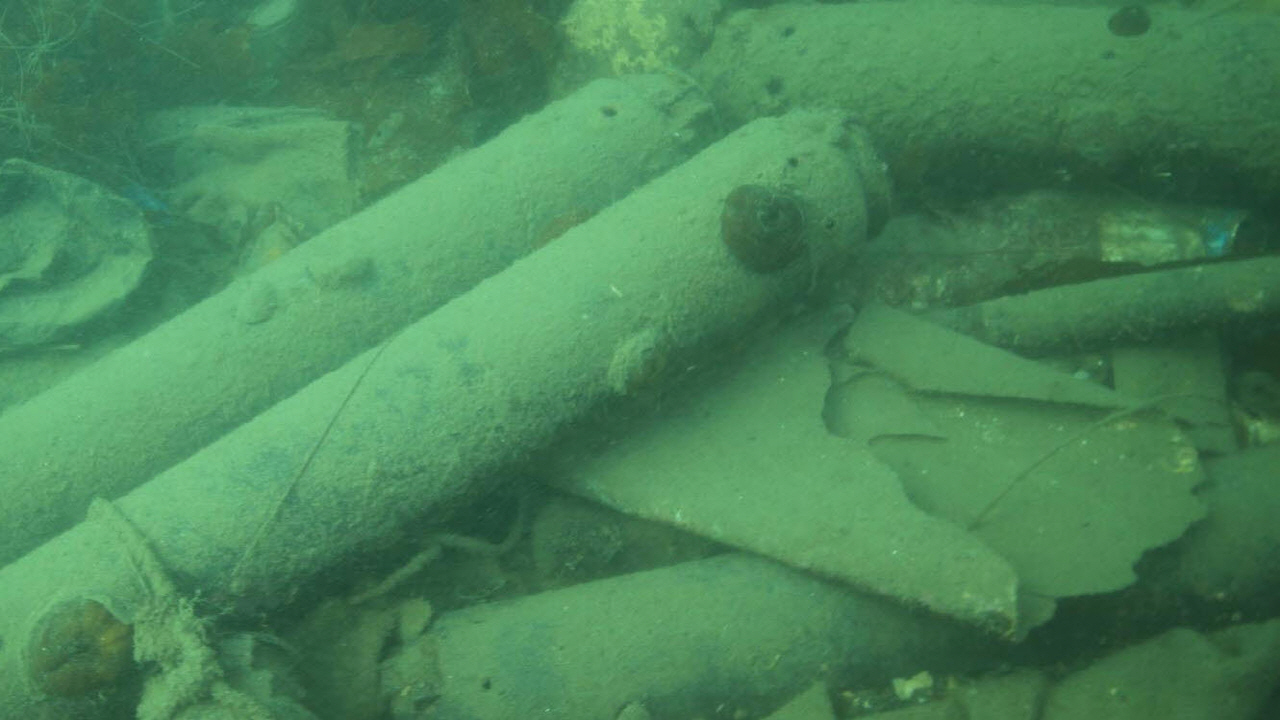bundle of ropes: (80, 483, 262, 720)
eel fish trap: (0, 106, 892, 706), (0, 68, 724, 562), (695, 0, 1280, 214), (375, 544, 1016, 720)
